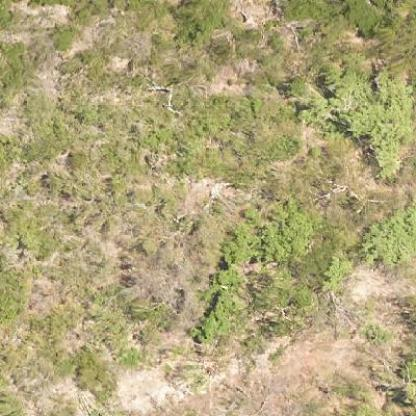tree-top: (319, 60, 415, 175), (222, 203, 315, 266), (361, 204, 415, 271), (195, 266, 239, 348), (171, 0, 228, 56)
